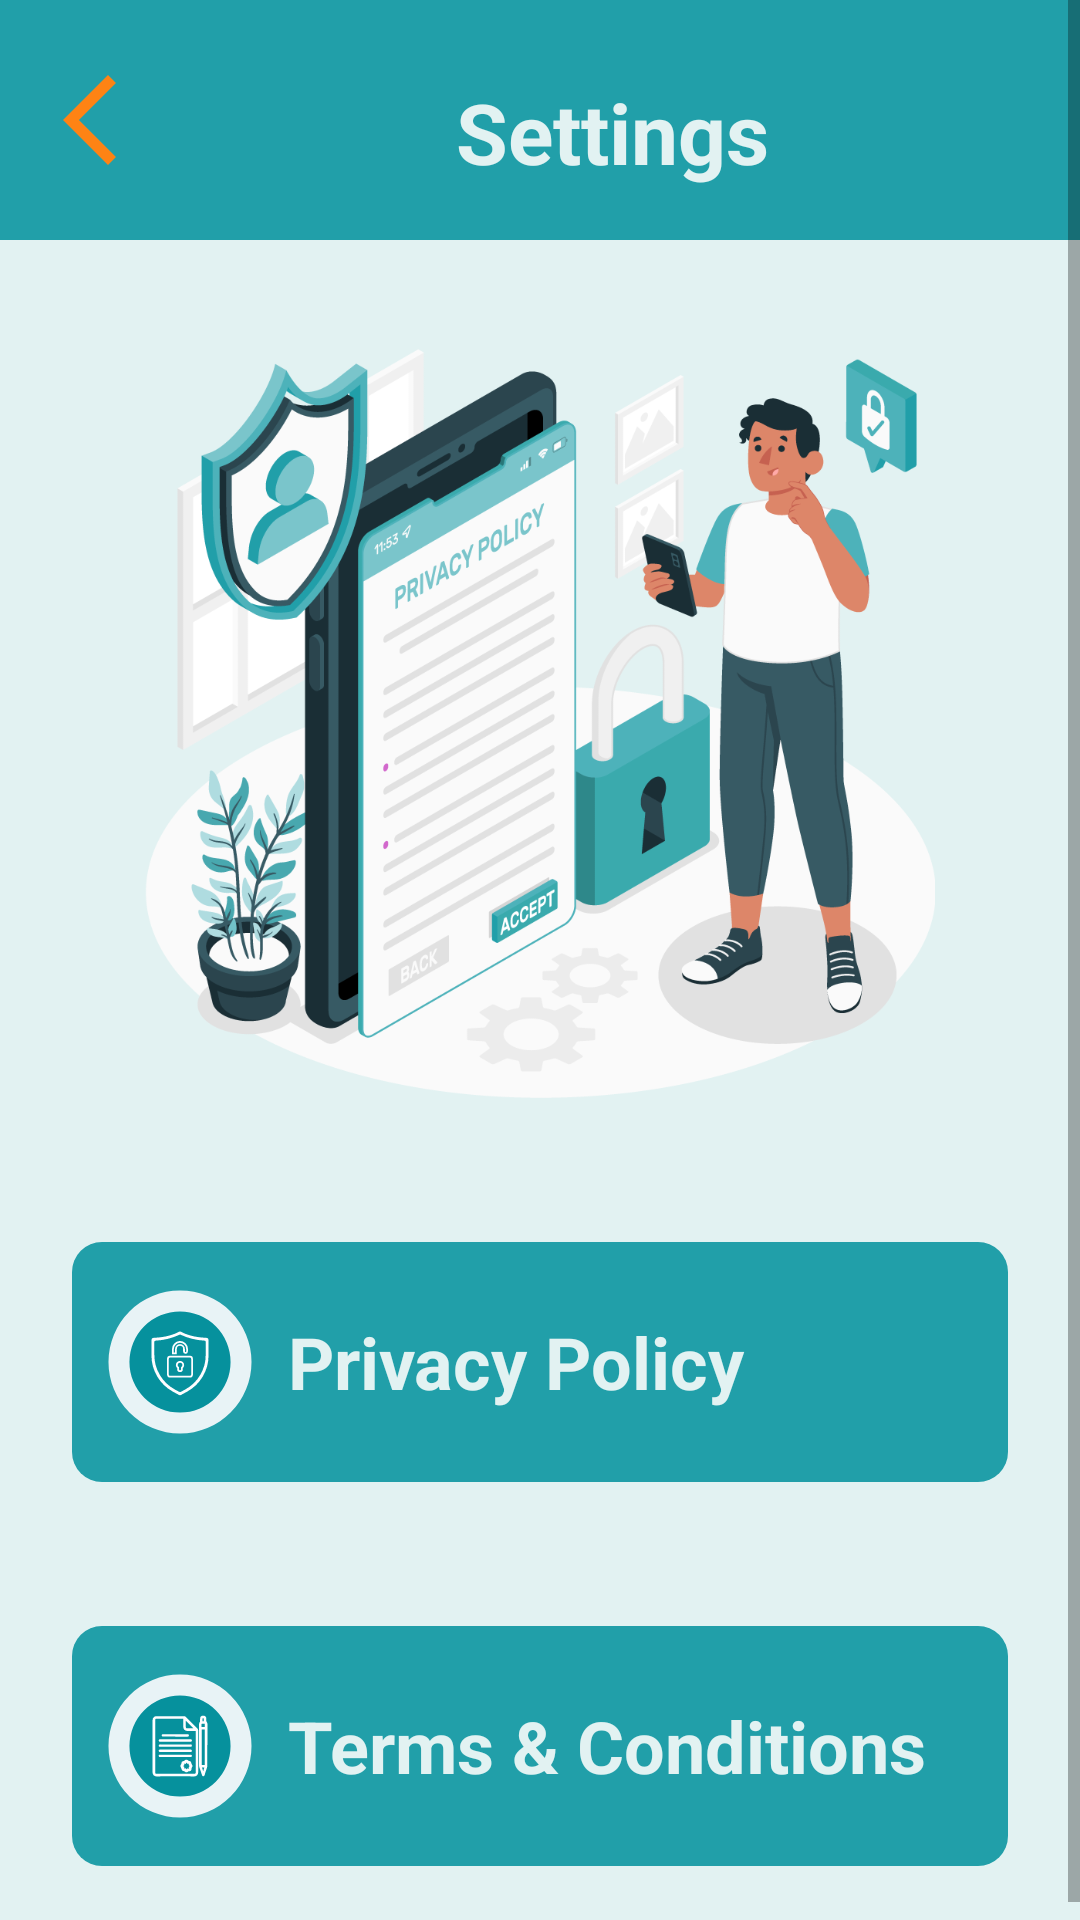

Icons on this 1080x1920 Android screen, each with the point to tap as point (x, y):
arrow back: point (89, 120)
